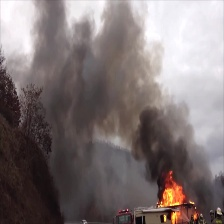fire: (152, 166, 199, 223)
